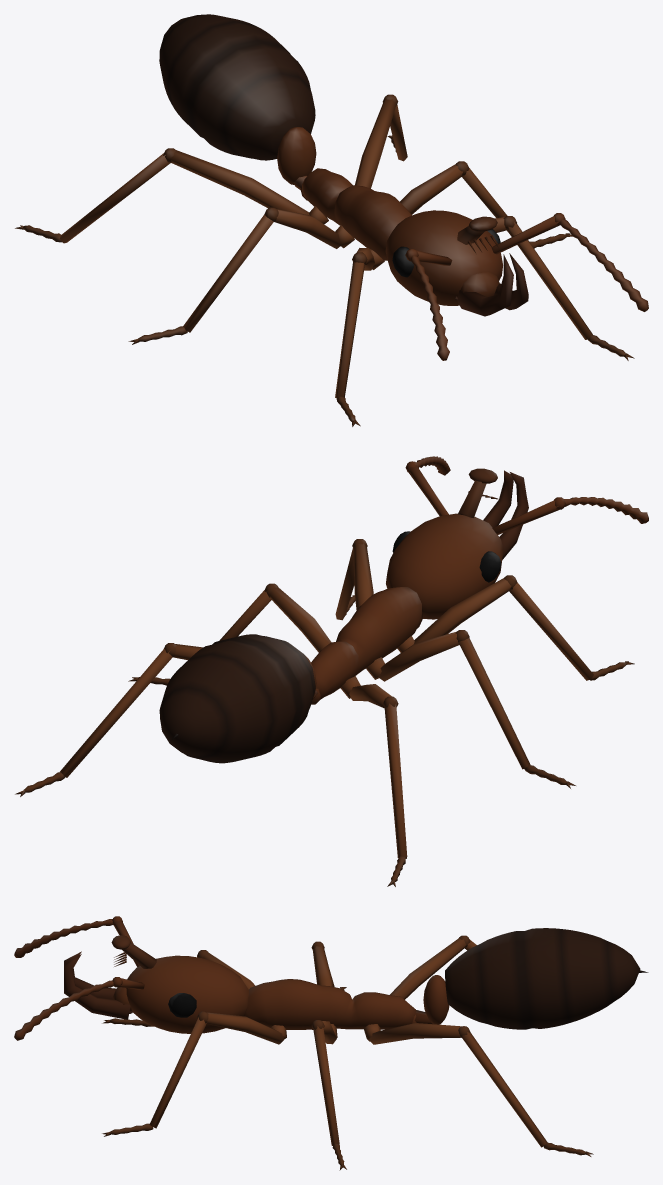
The model's file is HellAnt.fbx.
3 views of the same model, one above another, from view 1: azimuth 30°, elevation 25°; view 2: azimuth 150°, elevation 25°; view 3: azimuth 270°, elevation 25° (orthographic). The views are drawn at different scales.
Parts seen in each view (by area): view 1: HellAnt; view 2: HellAnt; view 3: HellAnt.
Boxes of the visible parts, x1,y1,x2,y2 form: HellAnt: (15,14,648,426); HellAnt: (15,456,648,886); HellAnt: (14,916,648,1170).
Bounding box in the file's own units: 0.9815 × 0.3634 × 1.43.
